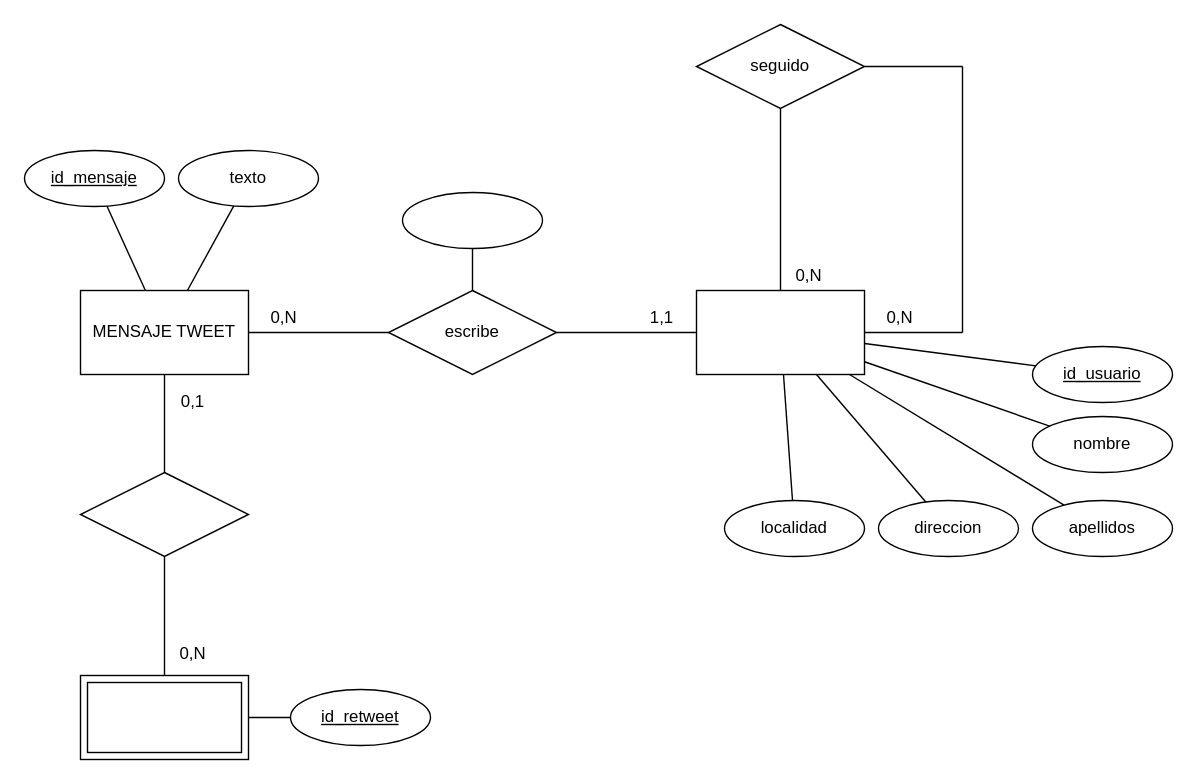
Some shapes in this 1197 by 784 pixel diagram are drawn without their labels. Each missing label, with the centre of its shape:
fecha: the point at 471,219
hace: the point at 163,513
RETWEET: the point at 163,717
USUARIO: the point at 779,331
